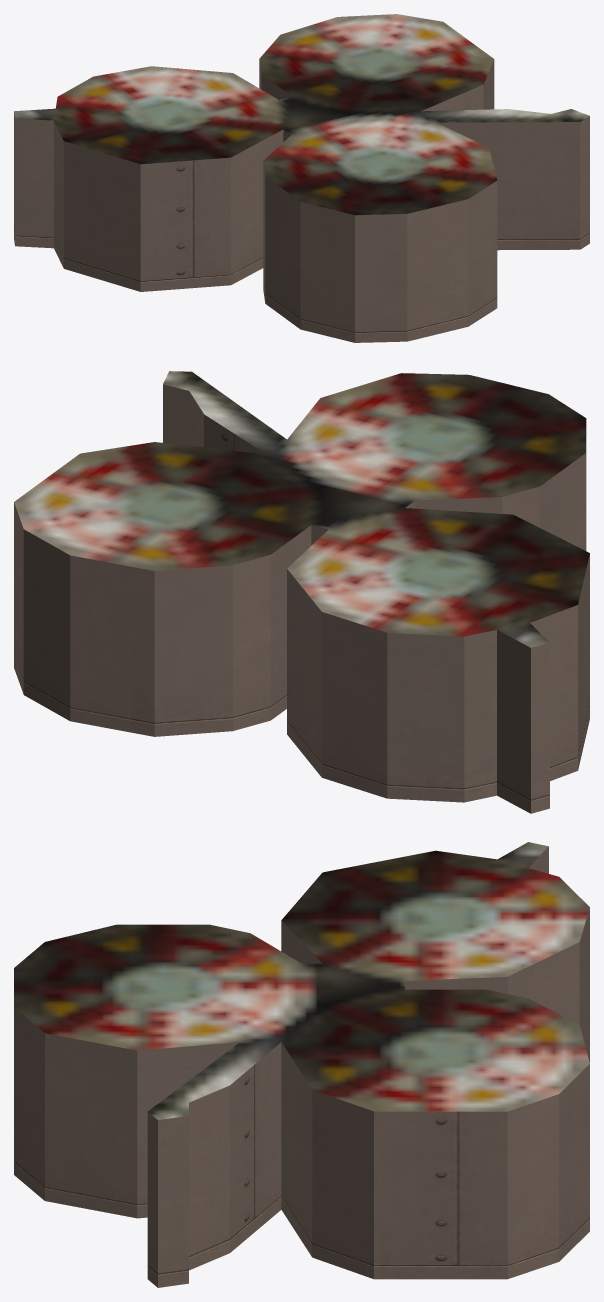
The model's file is fuel_tank_hard_36.glb.
The picture shows the model from 3 angles, top to bottom: view 1: azimuth 30°, elevation 25°; view 2: azimuth 150°, elevation 25°; view 3: azimuth 270°, elevation 25°; orthographic projection. The views are drawn at different scales.
Visible parts, largest first — view 1: buildings/saxarba/fuel_tanks/fuel_tank_hard_36; view 2: buildings/saxarba/fuel_tanks/fuel_tank_hard_36; view 3: buildings/saxarba/fuel_tanks/fuel_tank_hard_36.
Part boxes in pixels (x1=…): buildings/saxarba/fuel_tanks/fuel_tank_hard_36: x1=14, y1=14, x2=589, y2=342; buildings/saxarba/fuel_tanks/fuel_tank_hard_36: x1=14, y1=371, x2=589, y2=813; buildings/saxarba/fuel_tanks/fuel_tank_hard_36: x1=14, y1=842, x2=589, y2=1287.
Bounding box in the file's own units: 64 × 18 × 56.
